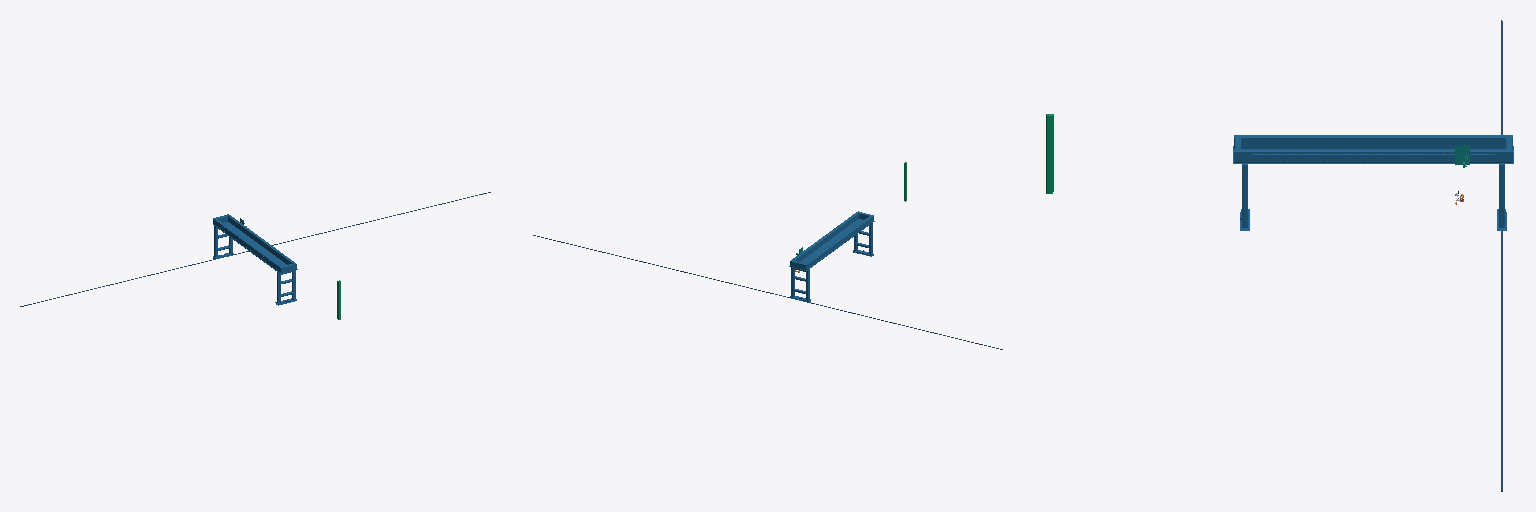
The robot description file, URDF, robot "9_axis":
<?xml version="1.0" encoding="utf-8"?>
<!-- This URDF was automatically created by SolidWorks to URDF Exporter! Originally created by Stephen Brawner (brawner@gmail.com) 
     Commit Version: 1.6.0-4-g7f85cfe  Build Version: 1.6.7995.38578
     For more information, please see http://wiki.ros.org/sw_urdf_exporter -->
<robot
  name="9_axis">
  <link
    name="base_link">
    <inertial>
      <origin
        xyz="0 0 0"
        rpy="0 0 0" />
      <mass
        value="120.0" />
      <inertia
        ixx="8.0"
        ixy="0"
        ixz="0"
        iyy="8.0"
        iyz="0"
        izz="8.0" />
    </inertial>
    <visual>
      <origin
        xyz="0 0 0"
        rpy="0 0 0" />
      <geometry>
        <mesh
          filename="package://9_axis/meshes/base_link.STL" />
      </geometry>
      <material
        name="gantry_base">
        <color
          rgba="0.22 0.33 0.47 1" />
      </material>
    </visual>
    <collision>
      <origin
        xyz="0 0 0"
        rpy="0 0 0" />
      <geometry>
        <mesh
          filename="package://9_axis/meshes/base_link.STL" />
      </geometry>
    </collision>
  </link>
  <link
    name="link_01">
    <inertial>
      <origin
        xyz="0 0 0"
        rpy="0 0 0" />
      <mass
        value="300.0" />
      <inertia
        ixx="30.0"
        ixy="0"
        ixz="0"
        iyy="30.0"
        iyz="0"
        izz="30.0" />
    </inertial>
    <visual>
      <origin
        xyz="0 0 0"
        rpy="0 0 0" />
      <geometry>
        <mesh
          filename="package://9_axis/meshes/link_01.STL" />
      </geometry>
      <material
        name="gantry_x">
        <color
          rgba="0.18 0.45 0.62 1" />
      </material>
    </visual>
    <collision>
      <origin
        xyz="0 0 0"
        rpy="0 0 0" />
      <geometry>
        <mesh
          filename="package://9_axis/meshes/link_01.STL" />
      </geometry>
    </collision>
  </link>
  <joint
    name="pris01"
    type="prismatic">
    <origin
      xyz="0 0 0"
      rpy="0 0 0" />
    <parent
      link="base_link" />
    <child
      link="link_01" />
    <axis
      xyz="1 0 0" />
    <limit
      lower="0"
      upper="20"
      effort="1000"
      velocity="1" />
  </joint>
  <link
    name="link_02">
    <inertial>
      <origin
        xyz="0 0 0"
        rpy="0 0 0" />
      <mass
        value="40.0" />
      <inertia
        ixx="3.0"
        ixy="0"
        ixz="0"
        iyy="3.0"
        iyz="0"
        izz="3.0" />
    </inertial>
    <visual>
      <origin
        xyz="0 0 0"
        rpy="0 0 0" />
      <geometry>
        <mesh
          filename="package://9_axis/meshes/link_02.STL" />
      </geometry>
      <material
        name="gantry_y">
        <color
          rgba="0.12 0.55 0.55 1" />
      </material>
    </visual>
    <collision>
      <origin
        xyz="0 0 0"
        rpy="0 0 0" />
      <geometry>
        <mesh
          filename="package://9_axis/meshes/link_02.STL" />
      </geometry>
    </collision>
  </link>
  <joint
    name="pris02"
    type="prismatic">
    <origin
      xyz="0 0 0"
      rpy="0 0 0" />
    <parent
      link="link_01" />
    <child
      link="link_02" />
    <axis
      xyz="0 1 0" />
    <limit
      lower="-10"
      upper="2"
      effort="1000"
      velocity="1" />
  </joint>
  <link
    name="link_03">
    <inertial>
      <origin
        xyz="0 0 0"
        rpy="0 0 0" />
      <mass
        value="80.0" />
      <inertia
        ixx="5.0"
        ixy="0"
        ixz="0"
        iyy="5.0"
        iyz="0"
        izz="5.0" />
    </inertial>
    <visual>
      <origin
        xyz="0 0 0"
        rpy="0 0 0" />
      <geometry>
        <mesh
          filename="package://9_axis/meshes/link_03.STL" />
      </geometry>
      <material
        name="gantry_z">
        <color
          rgba="0.08 0.62 0.42 1" />
      </material>
    </visual>
    <collision>
      <origin
        xyz="0 0 0"
        rpy="0 0 0" />
      <geometry>
        <mesh
          filename="package://9_axis/meshes/link_03.STL" />
      </geometry>
    </collision>
  </link>
  <joint
    name="pris03"
    type="prismatic">
    <origin
      xyz="0 0 0"
      rpy="0 0 0" />
    <parent
      link="link_02" />
    <child
      link="link_03" />
    <axis
      xyz="0 0 1" />
    <limit
      lower="-1"
      upper="5"
      effort="1000"
      velocity="1" />
  </joint>
  <link
    name="robobase">
    <inertial>
      <origin
        xyz="0.00281411995995548 -0.000194531191696483 0.0195447591183241"
        rpy="0 0 0" />
      <mass
        value="0.526598652051908" />
      <inertia
        ixx="0.000629597562234121"
        ixy="-2.42038795119825E-08"
        ixz="3.21123416404004E-06"
        iyy="0.00086870537882105"
        iyz="2.45011996420414E-07"
        izz="0.00136278998388592" />
    </inertial>
    <visual>
      <origin
        xyz="0 0 0"
        rpy="0 0 0" />
      <geometry>
        <mesh
          filename="package://9_axis/meshes/robobase.STL" />
      </geometry>
      <material
        name="robot_base">
        <color
          rgba="0.20 0.20 0.22 1" />
      </material>
    </visual>
    <collision>
      <origin
        xyz="0 0 0"
        rpy="0 0 0" />
      <geometry>
        <mesh
          filename="package://9_axis/meshes/robobase.STL" />
      </geometry>
    </collision>
  </link>
  <joint
    name="robobase"
    type="fixed">
    <origin
      xyz="-10.008 11.286 2.3119"
      rpy="-3.1415 0 0" />
    <parent
      link="link_03" />
    <child
      link="robobase" />
    <axis
      xyz="0 0 0" />
  </joint>
  <link
    name="link04">
    <inertial>
      <origin
        xyz="-2.51857531862945E-07 0.00332256500839039 -0.00150902460016494"
        rpy="0 0 0" />
      <mass
        value="15.1346479444998" />
      <inertia
        ixx="0.0443031651788231"
        ixy="-2.81167524079918E-08"
        ixz="-4.0596826899028E-07"
        iyy="0.0430901762109995"
        iyz="1.43719449704964E-05"
        izz="0.0305221713846399" />
    </inertial>
    <visual>
      <origin
        xyz="0 0 0"
        rpy="0 0 0" />
      <geometry>
        <mesh
          filename="package://9_axis/meshes/link04.STL" />
      </geometry>
      <material
        name="arm_link">
        <color
          rgba="0.88 0.90 0.95 1" />
      </material>
    </visual>
    <collision>
      <origin
        xyz="0 0 0"
        rpy="0 0 0" />
      <geometry>
        <mesh
          filename="package://9_axis/meshes/link04.STL" />
      </geometry>
    </collision>
  </link>
  <joint
    name="revo04"
    type="revolute">
    <origin
      xyz="0 -0.00022535 0.12015"
      rpy="0 0 0" />
    <parent
      link="robobase" />
    <child
      link="link04" />
    <axis
      xyz="0 0 -1" />
    <limit
      lower="-6.2832"
      upper="6.2832"
      effort="200"
      velocity="3.14" />
  </joint>
  <link
    name="link05">
    <inertial>
      <origin
        xyz="0.215000100287162 6.43173034275968E-09 -0.143146610069182"
        rpy="0 0 0" />
      <mass
        value="45.8465918633366" />
      <inertia
        ixx="0.1037483140575"
        ixy="-5.87095025929926E-08"
        ixz="2.54282490391606E-07"
        iyy="0.240121009336192"
        iyz="2.15483178508248E-08"
        izz="0.212572501503178" />
    </inertial>
    <visual>
      <origin
        xyz="0 0 0"
        rpy="0 0 0" />
      <geometry>
        <mesh
          filename="package://9_axis/meshes/link05.STL" />
      </geometry>
      <material
        name="arm_joint">
        <color
          rgba="0.95 0.55 0.10 1" />
      </material>
    </visual>
    <collision>
      <origin
        xyz="0 0 0"
        rpy="0 0 0" />
      <geometry>
        <mesh
          filename="package://9_axis/meshes/link05.STL" />
      </geometry>
    </collision>
  </link>
  <joint
    name="revo05"
    type="revolute">
    <origin
      xyz="0 0 0"
      rpy="1.5708 0 0" />
    <parent
      link="link04" />
    <child
      link="link05" />
    <axis
      xyz="0 0 1" />
    <limit
      lower="-6.2832"
      upper="6.2832"
      effort="200"
      velocity="3.14" />
  </joint>
  <link
    name="link06">
    <inertial>
      <origin
        xyz="0.190735496583493 -1.52687675682717E-05 -0.0106365862195608"
        rpy="0 0 0" />
      <mass
        value="18.0534564554839" />
      <inertia
        ixx="0.0197914204709761"
        ixy="6.48612971204404E-07"
        ixz="-0.0162800799758652"
        iyy="0.168630223367361"
        iyz="3.37641397447918E-07"
        izz="0.16527336838242" />
    </inertial>
    <visual>
      <origin
        xyz="0 0 0"
        rpy="0 0 0" />
      <geometry>
        <mesh
          filename="package://9_axis/meshes/link06.STL" />
      </geometry>
      <material
        name="arm_link2">
        <color
          rgba="0.88 0.90 0.95 1" />
      </material>
    </visual>
    <collision>
      <origin
        xyz="0 0 0"
        rpy="0 0 0" />
      <geometry>
        <mesh
          filename="package://9_axis/meshes/link06.STL" />
      </geometry>
    </collision>
  </link>
  <joint
    name="revo06"
    type="revolute">
    <origin
      xyz="0.43 0 0"
      rpy="0 0 0" />
    <parent
      link="link05" />
    <child
      link="link06" />
    <axis
      xyz="0 0 1" />
    <limit
      lower="-6.2832"
      upper="6.2832"
      effort="200"
      velocity="3.14" />
  </joint>
  <link
    name="link07">
    <inertial>
      <origin
        xyz="-1.98734804579548E-06 -0.00595118756440464 0.00267886074216196"
        rpy="0 0 0" />
      <mass
        value="5.53782702890545" />
      <inertia
        ixx="0.00708415707773477"
        ixy="1.83211236329591E-07"
        ixz="-2.36169851115656E-08"
        iyy="0.00516123063669001"
        iyz="-0.000397739879929697"
        izz="0.00684324625577803" />
    </inertial>
    <visual>
      <origin
        xyz="0 0 0"
        rpy="0 0 0" />
      <geometry>
        <mesh
          filename="package://9_axis/meshes/link07.STL" />
      </geometry>
      <material
        name="arm_joint2">
        <color
          rgba="0.95 0.55 0.10 1" />
      </material>
    </visual>
    <collision>
      <origin
        xyz="0 0 0"
        rpy="0 0 0" />
      <geometry>
        <mesh
          filename="package://9_axis/meshes/link07.STL" />
      </geometry>
    </collision>
  </link>
  <joint
    name="revo07"
    type="revolute">
    <origin
      xyz="0.3685 -1.185E-05 -0.114"
      rpy="0 0 0" />
    <parent
      link="link06" />
    <child
      link="link07" />
    <axis
      xyz="0 0 -1" />
    <limit
      lower="-6.2832"
      upper="6.2832"
      effort="200"
      velocity="3.14" />
  </joint>
  <link
    name="link08">
    <inertial>
      <origin
        xyz="-1.90944871258925E-06 -0.00288907759425719 -0.00234237394169147"
        rpy="0 0 0" />
      <mass
        value="6.33394466548073" />
      <inertia
        ixx="0.012920396120737"
        ixy="-1.08659585912681E-07"
        ixz="5.89055788634786E-09"
        iyy="0.00584529345673904"
        iyz="4.29603782509824E-05"
        izz="0.0126275585433332" />
    </inertial>
    <visual>
      <origin
        xyz="0 0 0"
        rpy="0 0 0" />
      <geometry>
        <mesh
          filename="package://9_axis/meshes/link08.STL" />
      </geometry>
      <material
        name="arm_link3">
        <color
          rgba="0.88 0.90 0.95 1" />
      </material>
    </visual>
    <collision>
      <origin
        xyz="0 0 0"
        rpy="0 0 0" />
      <geometry>
        <mesh
          filename="package://9_axis/meshes/link08.STL" />
      </geometry>
    </collision>
  </link>
  <joint
    name="revo08"
    type="revolute">
    <origin
      xyz="0 -0.1135 0"
      rpy="1.5708 0 0" />
    <parent
      link="link07" />
    <child
      link="link08" />
    <axis
      xyz="0 0 1" />
    <limit
      lower="-6.2832"
      upper="6.2832"
      effort="200"
      velocity="3.14" />
  </joint>
  <link
    name="link09">
    <inertial>
      <origin
        xyz="2.76523161145681E-05 -1.34854737601593E-05 -0.021245060068734"
        rpy="0 0 0" />
      <mass
        value="1.41689125820954" />
      <inertia
        ixx="0.000713704897956401"
        ixy="-6.91164349011104E-07"
        ixz="-6.36734535409925E-07"
        iyy="0.000723626940396581"
        iyz="1.5890038073838E-06"
        izz="0.00112895600939514" />
    </inertial>
    <visual>
      <origin
        xyz="0 0 0"
        rpy="0 0 0" />
      <geometry>
        <mesh
          filename="package://9_axis/meshes/link09.STL" />
      </geometry>
      <material
        name="arm_ee">
        <color
          rgba="0.85 0.20 0.15 1" />
      </material>
    </visual>
    <collision>
      <origin
        xyz="0 0 0"
        rpy="0 0 0" />
      <geometry>
        <mesh
          filename="package://9_axis/meshes/link09.STL" />
      </geometry>
    </collision>
  </link>
  <joint
    name="revo09"
    type="revolute">
    <origin
      xyz="0 0.107 0"
      rpy="-1.5708 0 0" />
    <parent
      link="link08" />
    <child
      link="link09" />
    <axis
      xyz="0 0 1" />
    <limit
      lower="-6.2832"
      upper="6.2832"
      effort="200"
      velocity="3.14" />
  </joint>
  <!-- ========== Welding Gun v2 (固定在 link09 末端) ========== -->
  <link
    name="welding_gun_base">
    <inertial>
      <origin
        xyz="0.016473 0.0010858 0.12471"
        rpy="0 0 0" />
      <mass
        value="0.6969" />
      <inertia
        ixx="0.00031521"
        ixy="5.9416E-05"
        ixz="-0.00014568"
        iyy="0.0030081"
        iyz="-3.734E-06"
        izz="0.0029337" />
    </inertial>
    <visual>
      <origin
        xyz="0 0 0"
        rpy="0 0 0" />
      <geometry>
        <mesh
          filename="package://9_axis/meshes/welding_gun_base.STL" />
      </geometry>
      <material
        name="welding_gun_body">
        <color
          rgba="0.3 0.3 0.35 1" />
      </material>
    </visual>
    <collision>
      <origin
        xyz="0 0 0"
        rpy="0 0 0" />
      <geometry>
        <mesh
          filename="package://9_axis/meshes/welding_gun_base.STL" />
      </geometry>
    </collision>
  </link>
  <joint
    name="welding_gun_mount"
    type="fixed">
    <origin
      xyz="0 0 0"
      rpy="0 0 3.14" />
    <parent
      link="link09" />
    <child
      link="welding_gun_base" />
  </joint>
  <link
    name="weld_point">
    <inertial>
      <origin
        xyz="-6.357E-07 -2.9447E-08 -0.053384"
        rpy="0 0 0" />
      <mass
        value="0.012779" />
      <inertia
        ixx="4.4222E-06"
        ixy="5.6715E-09"
        ixz="-2.5017E-11"
        iyy="4.4432E-06"
        iyz="4.5845E-12"
        izz="1.5348E-06" />
    </inertial>
    <visual>
      <origin
        xyz="0 0 0"
        rpy="0 0 0" />
      <geometry>
        <mesh
          filename="package://9_axis/meshes/weld_point.STL" />
      </geometry>
      <material
        name="weld_tip">
        <color
          rgba="1.0 0.2 0.0 1" />
      </material>
    </visual>
    <collision>
      <origin
        xyz="0 0 0"
        rpy="0 0 0" />
      <geometry>
        <mesh
          filename="package://9_axis/meshes/weld_point.STL" />
      </geometry>
    </collision>
  </link>
  <joint
    name="fixed_point"
    type="fixed">
    <origin
      xyz="-0.248445440189498 0.01790694134073 0.117582478213501"
      rpy="-2.40735429840374 1.11493845934423 0.681057147859078" />
    <parent
      link="welding_gun_base" />
    <child
      link="weld_point" />
  </joint>
</robot>

--- Render facts (derived) ---
3 views of the same robot in one strip: view 1: azimuth 30°, elevation 25°; view 2: azimuth 150°, elevation 25°; view 3: azimuth 270°, elevation 25° (orthographic).
Robot: 9_axis — 13 links, 12 joints (6 revolute, 3 prismatic, 3 fixed); root link base_link; default pose: every joint at zero.
Visible links, largest first — view 1: link_01; view 2: link_01; view 3: link_01, base_link, link_03.
Link boxes in pixels (left/top/right/bottom): link_01: left=213, top=214, right=297, bottom=305; link_01: left=789, top=211, right=874, bottom=302; link_01: left=1233, top=135, right=1513, bottom=230; base_link: left=1501, top=20, right=1502, bottom=491; link_03: left=1046, top=114, right=1053, bottom=193.
Size in the robot's own frame: 51.2 by 21.51 by 5.82 metres.
Meshes: 13 distinct files referenced, 13 mesh visuals loaded (13 binary STL).
